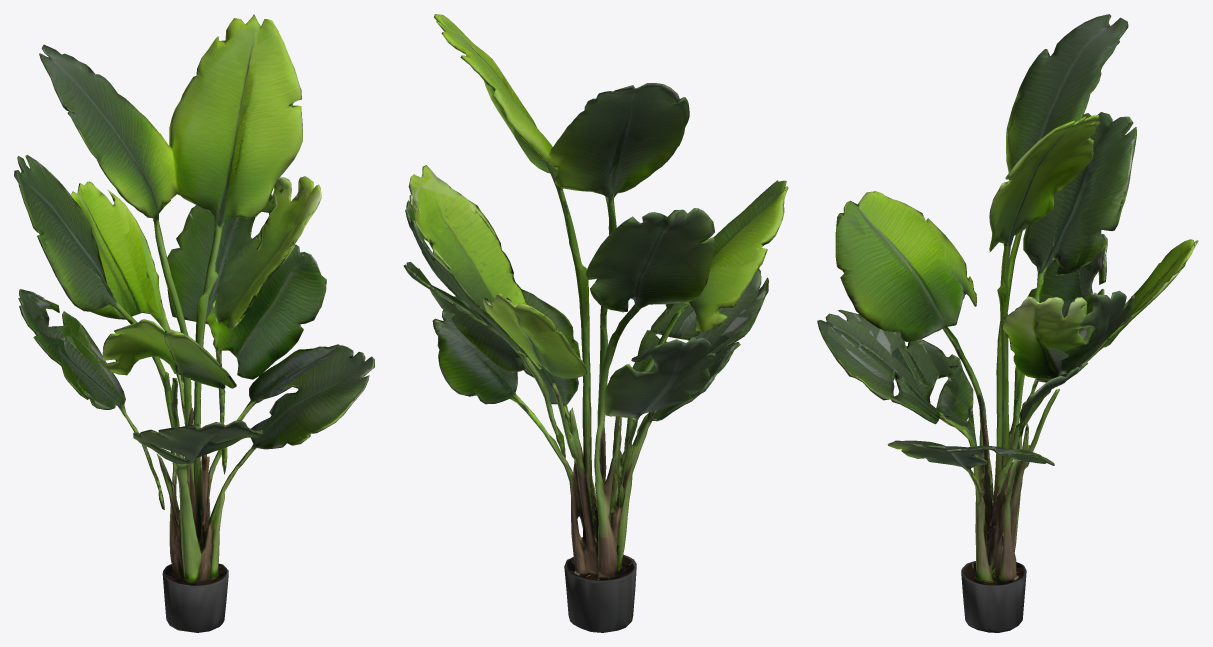
File: Meshy_AI_Banana_Palm_Bliss_0106212824_texture.fbx
3 renders of one model, left to right at view 1: azimuth 30°, elevation 25°; view 2: azimuth 150°, elevation 25°; view 3: azimuth 270°, elevation 25°, orthographic. The views are drawn at different scales.
Visible parts, largest first — view 1: Mesh_0; view 2: Mesh_0; view 3: Mesh_0.
Boxes of the visible parts, x1,y1,x2,y2 form: Mesh_0: [14, 14, 374, 632]; Mesh_0: [403, 14, 788, 632]; Mesh_0: [817, 14, 1198, 632].
Size of the model in its own units: 105 by 192 by 119.
1 material, 1 textured.
